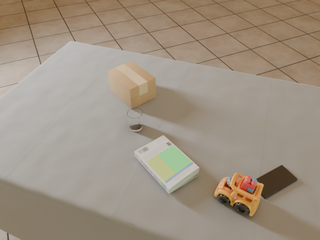book: (135, 135, 199, 194)
box: (108, 61, 156, 109)
cup: (127, 108, 142, 131)
phone: (256, 165, 297, 199)
toy_car: (214, 173, 264, 216)
